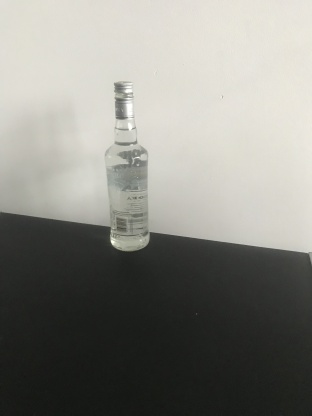nakretka: (112, 79, 136, 119)
